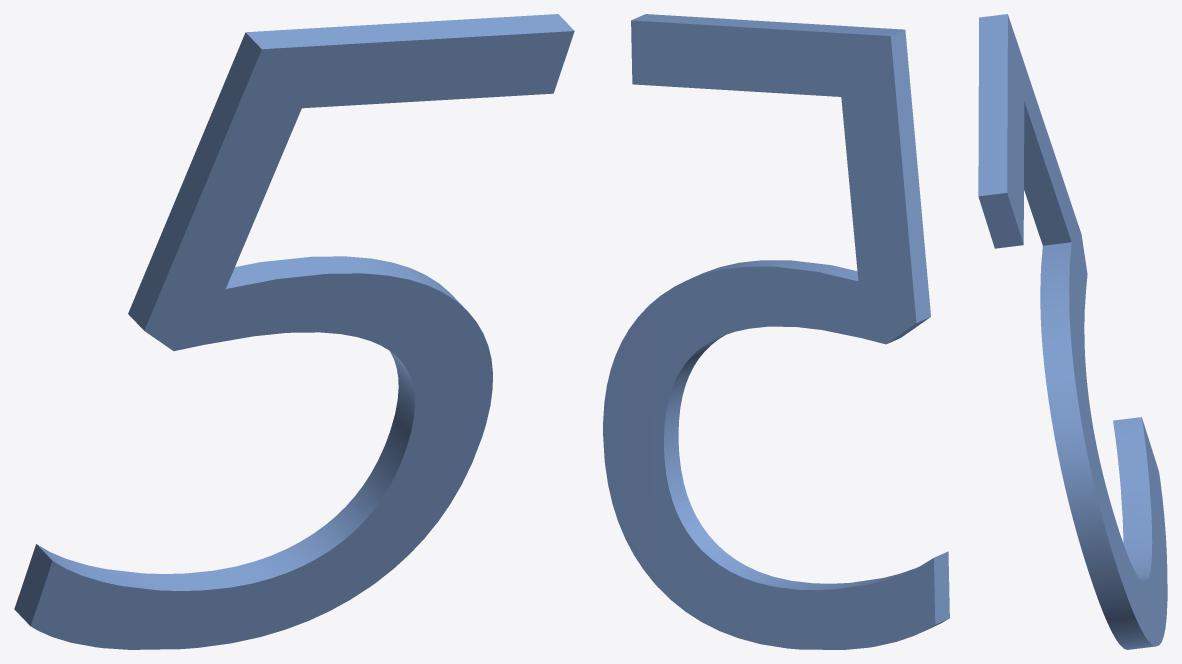
Rendered from New_Number_5.gltf.
3 renders of one model, left to right at view 1: azimuth 30°, elevation 25°; view 2: azimuth 150°, elevation 25°; view 3: azimuth 270°, elevation 25°, orthographic. The views are drawn at different scales.
Parts seen in each view (by area): view 1: Part 104; view 2: Part 104; view 3: Part 104.
Boxes of the visible parts, x1=… form: Part 104: x1=14, y1=14, x2=574, y2=649; Part 104: x1=603, y1=14, x2=949, y2=649; Part 104: x1=978, y1=14, x2=1167, y2=649.
Size of the model in its own units: 0.00392 by 0.00561 by 0.00166.
